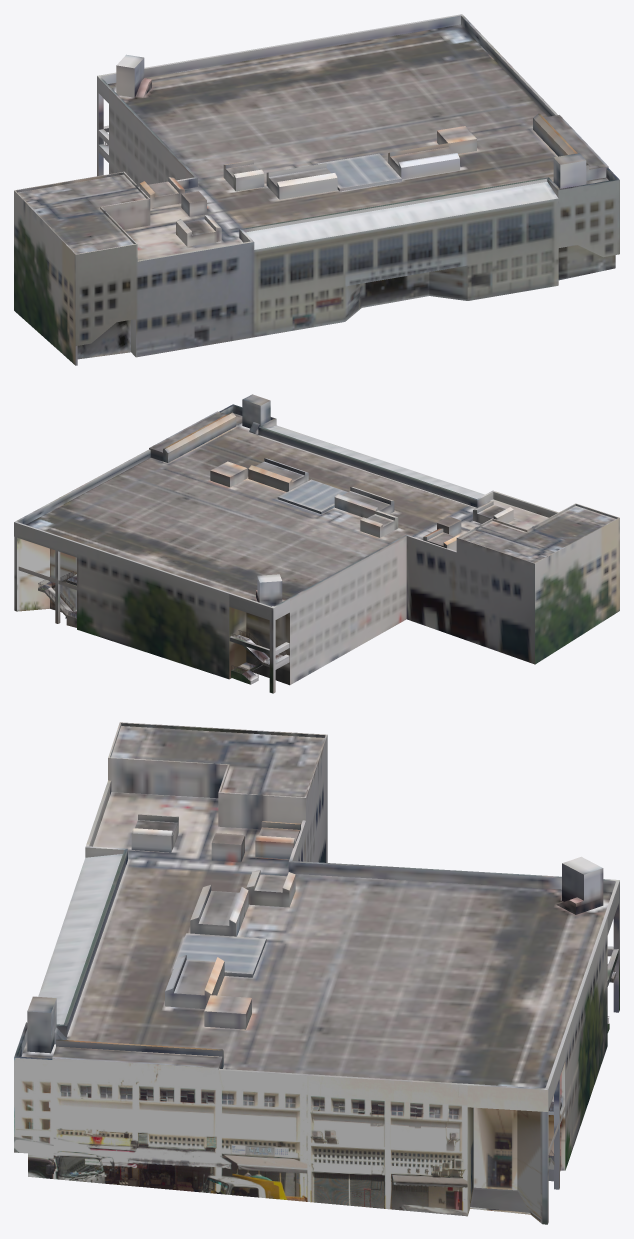
The picture shows the model from 3 angles, top to bottom: view 1: azimuth 30°, elevation 25°; view 2: azimuth 150°, elevation 25°; view 3: azimuth 270°, elevation 25°; orthographic projection. The views are drawn at different scales.
Parts seen in each view (by area): view 1: B281864033301063A0; view 2: B281864033301063A0; view 3: B281864033301063A0.
Part boxes in pixels (<box>): B281864033301063A0: <box>14,14,619,365</box>; B281864033301063A0: <box>14,394,619,693</box>; B281864033301063A0: <box>14,722,619,1224</box>.
Bounding box in the file's own units: 70.78 × 15.62 × 52.5.
2 materials, 2 textured.
